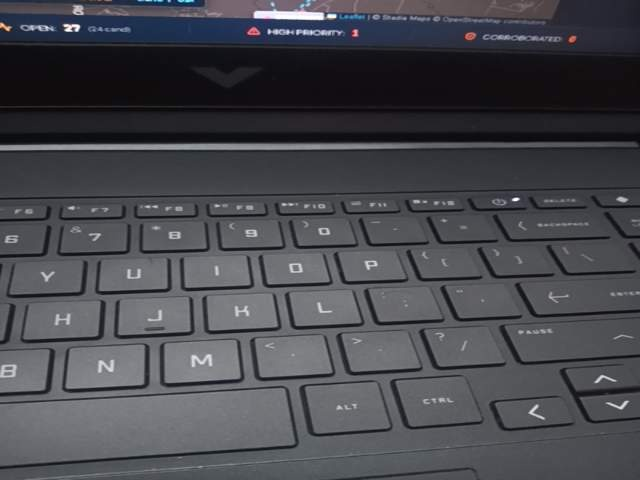pothole: (104, 138, 313, 319), (104, 104, 313, 252), (104, 77, 313, 213), (104, 402, 313, 480), (536, 403, 640, 480)
